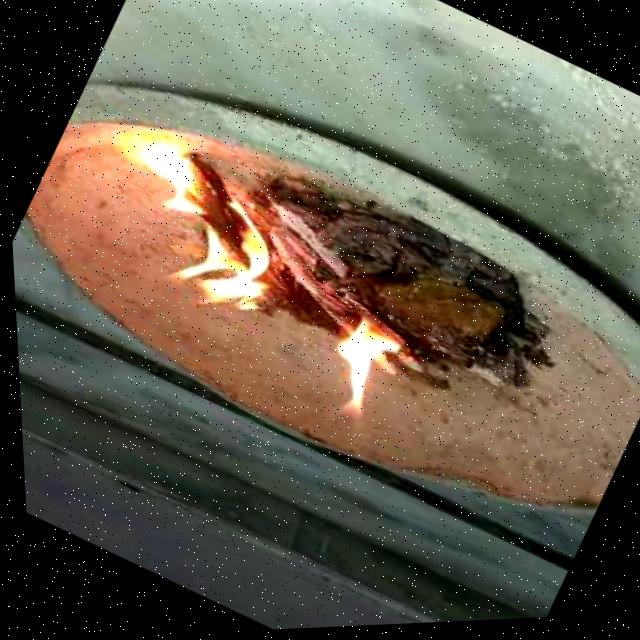Fire: (61, 117, 312, 341), (283, 299, 424, 452)
